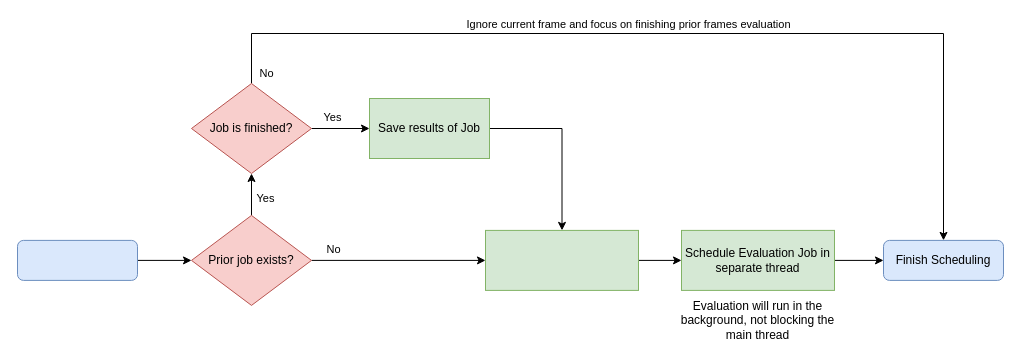
This 1021x359 diagram has some shape labels left out. Here are the shapes that lost their labels. From the top down, the centre of each, then its label:
At (x=77, y=259): "Evaluation Scheduling Request".
At (x=561, y=259): "Prepare data for evaluation".
